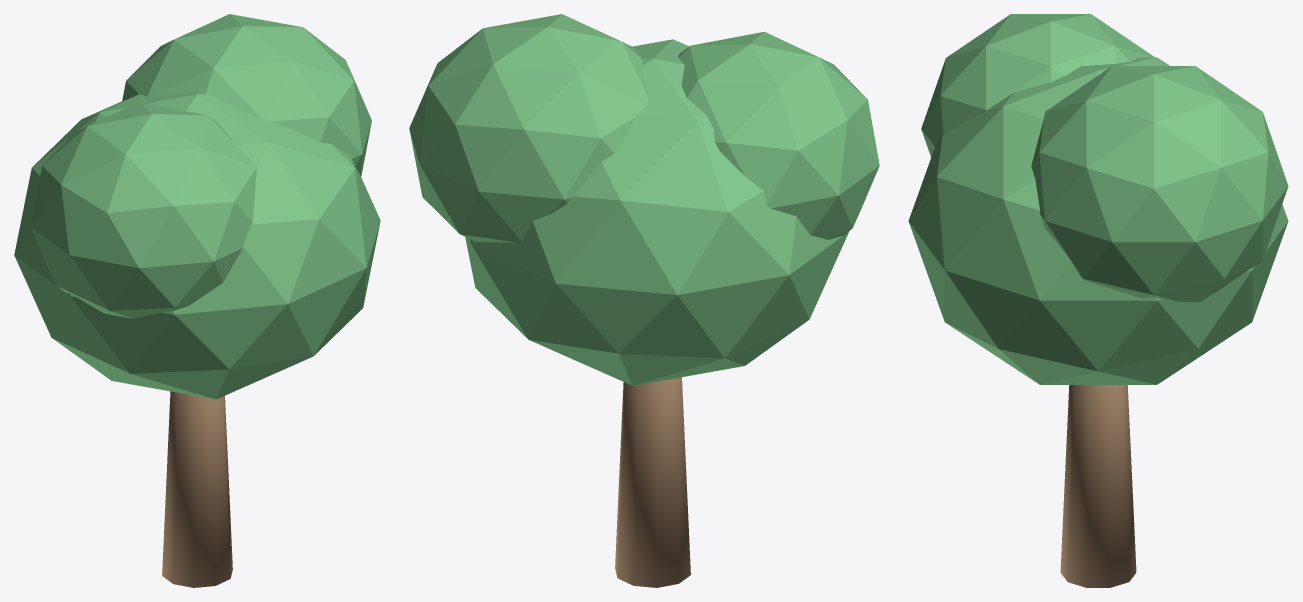
File: garden-tree.glb
3 renders of one model, left to right at view 1: azimuth 30°, elevation 25°; view 2: azimuth 150°, elevation 25°; view 3: azimuth 270°, elevation 25°, orthographic. The views are drawn at different scales.
Visible parts, largest first — view 1: GardenTree; view 2: GardenTree; view 3: GardenTree.
Part boxes in pixels (<box>): GardenTree: <box>14,14,380,587</box>; GardenTree: <box>409,14,879,587</box>; GardenTree: <box>908,14,1288,587</box>.
Bounding box in the file's own units: 2.69 × 3.73 × 2.4.
